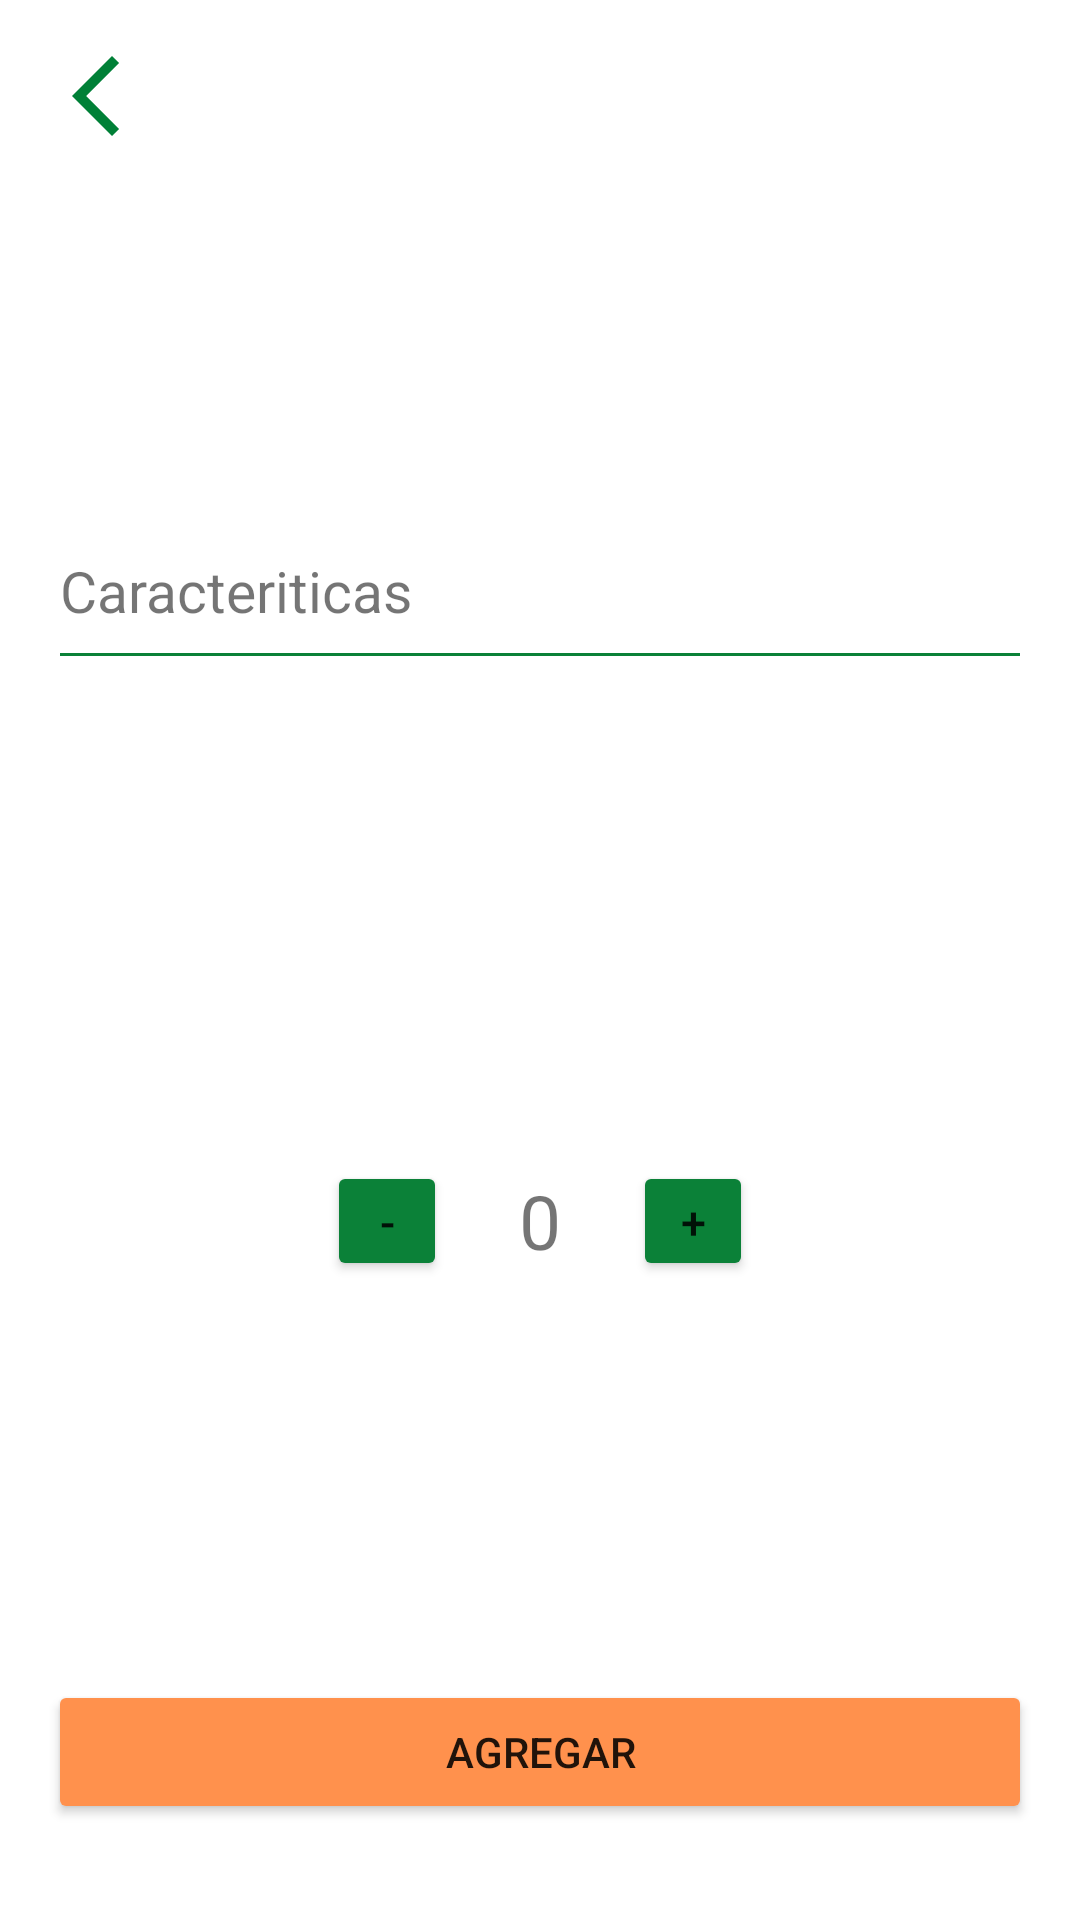

Screen size 1080px×1920px. Icon name, then its center in pixels as (x,y):
arrow back: (95,96)
